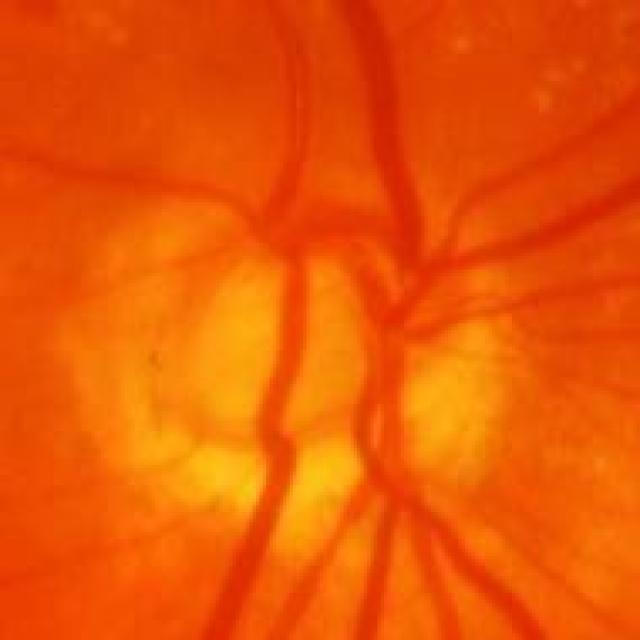OC: (196, 253, 371, 427)
OD: (59, 129, 505, 579)
